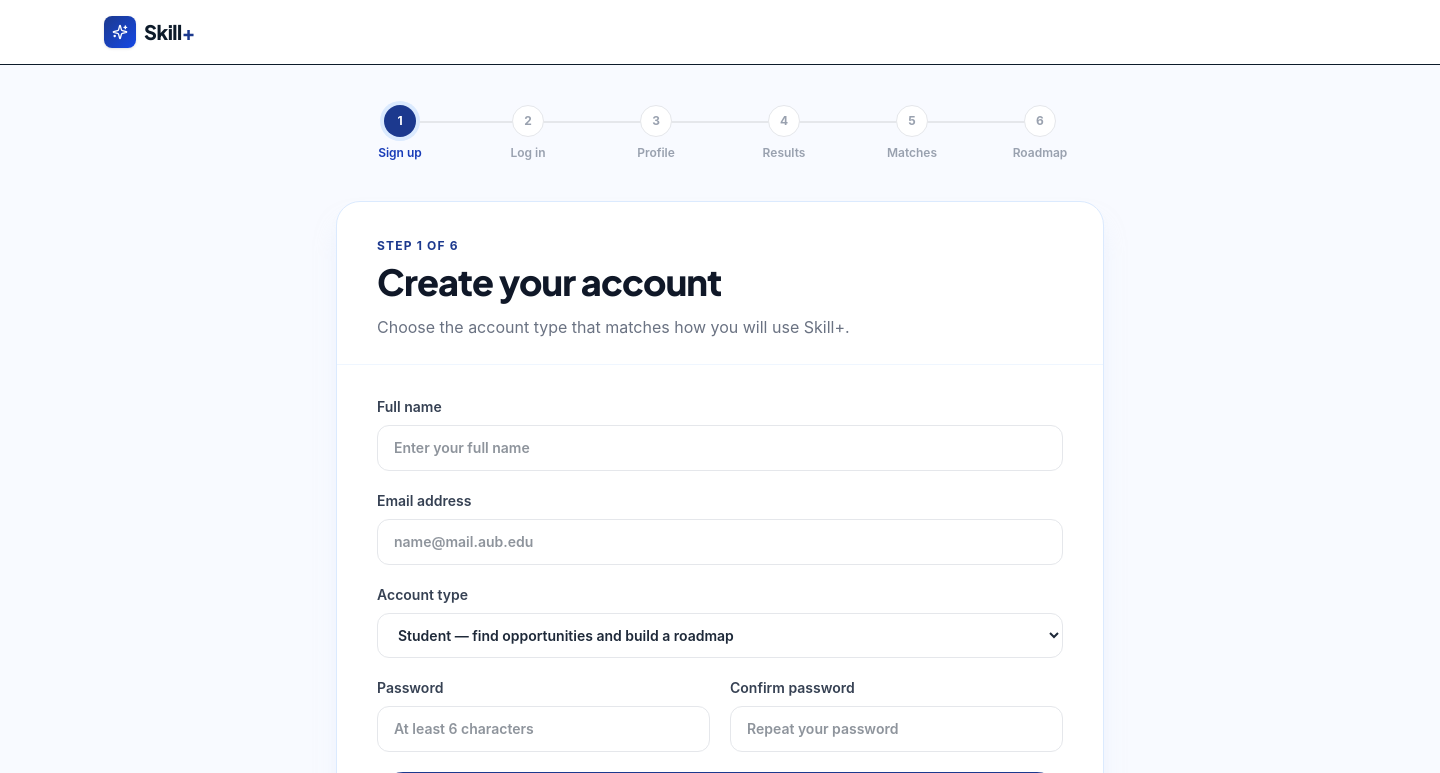
Test case: Member 5 complete student flow › shows a useful duplicate-email error and login path
Type "Alex Morgan" into the field labelled "Full name" at (720, 448), box [377,425,1063,471]
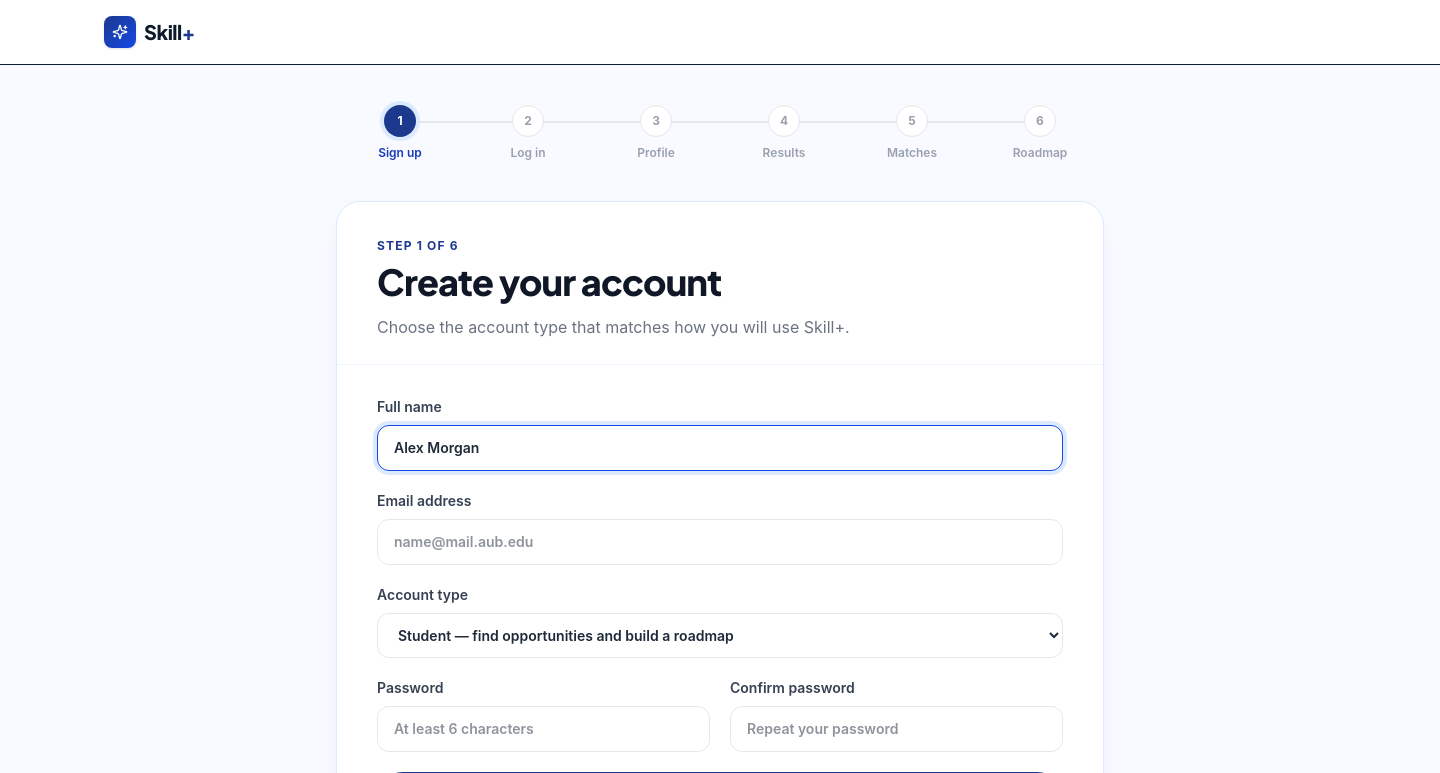
Type "alex.morgan@mail.aub.edu" into the field labelled "Email address" at (720, 542), box [377,519,1063,565]
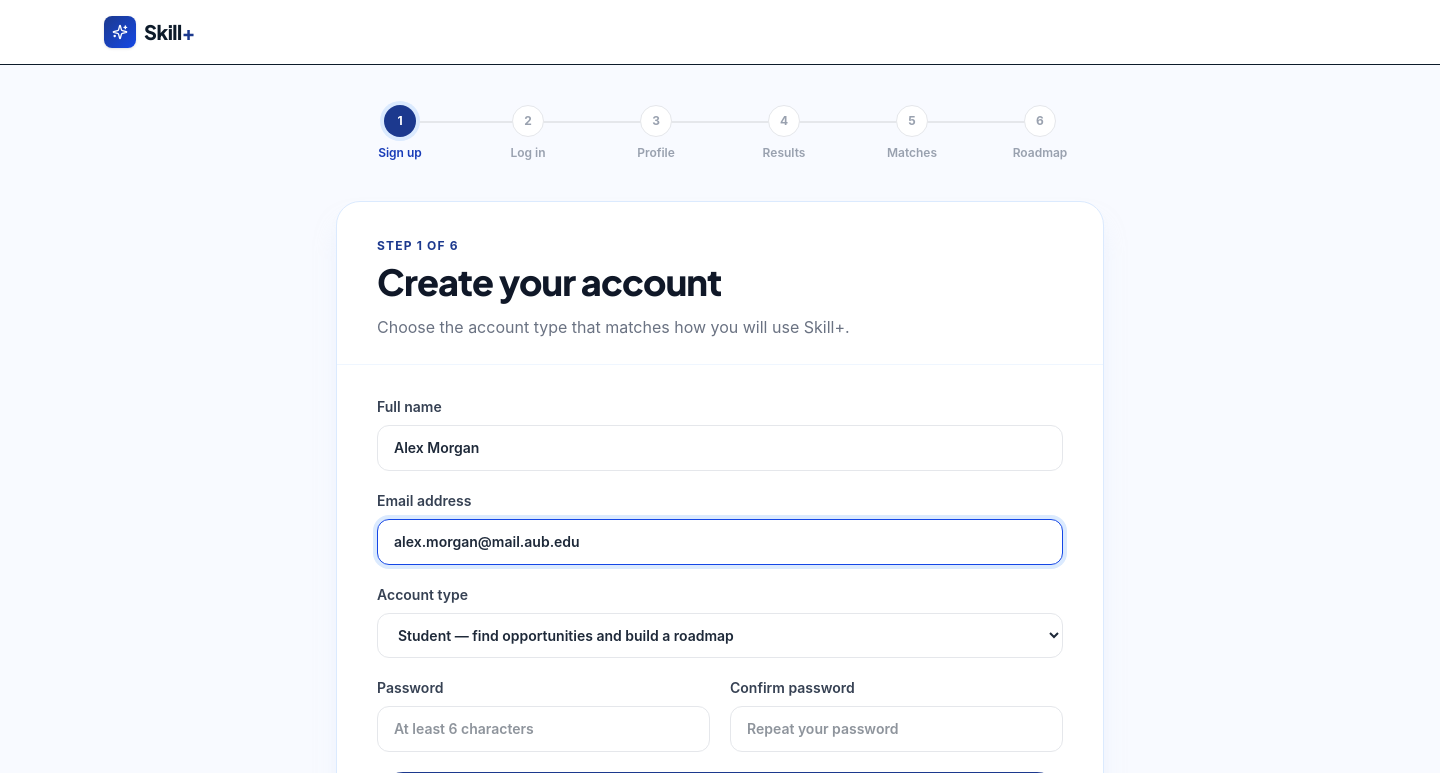
Type "password123" into the password field labelled "Password" at (544, 729), box [377,706,710,752]
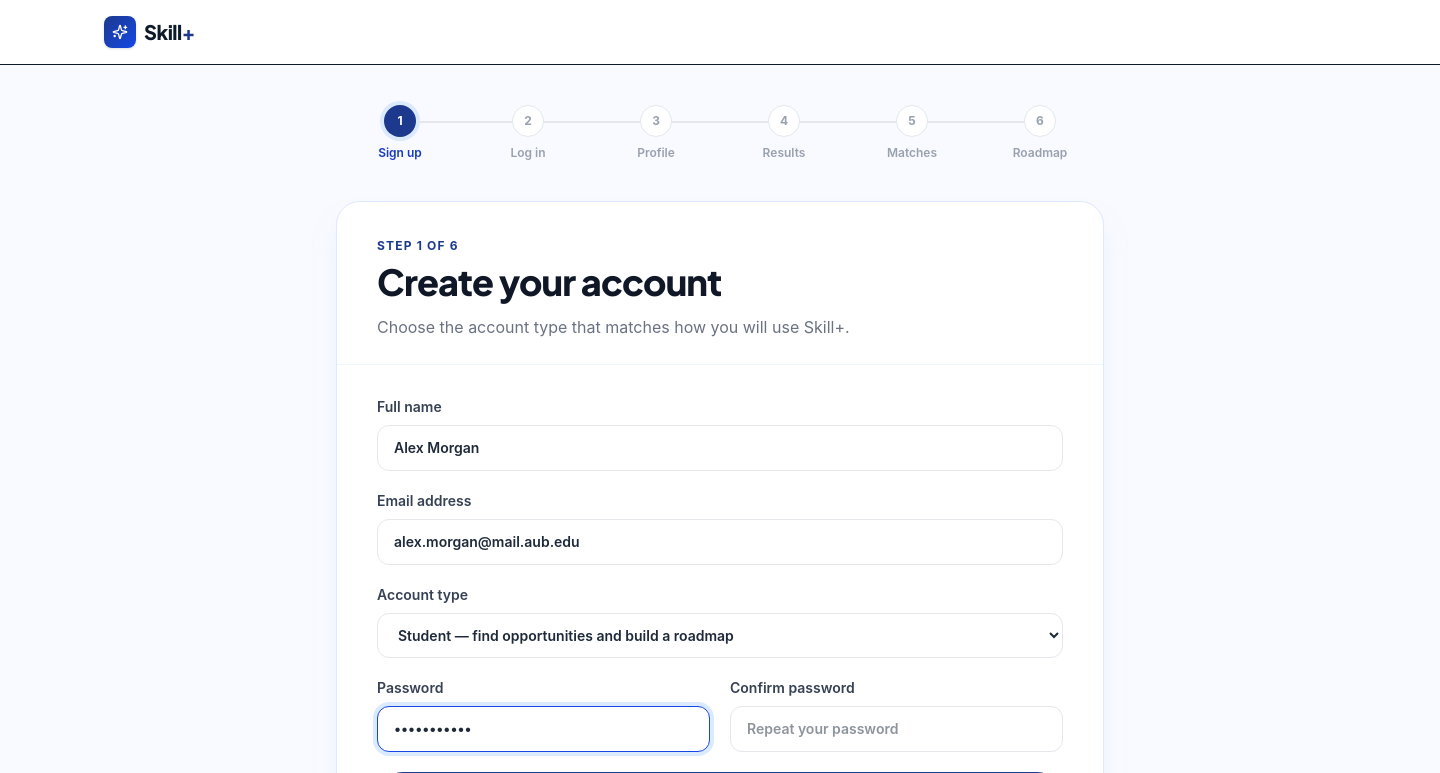
Type "password123" into the password field labelled "Confirm password" at (896, 729), box [730,706,1063,752]
(page scrolled)
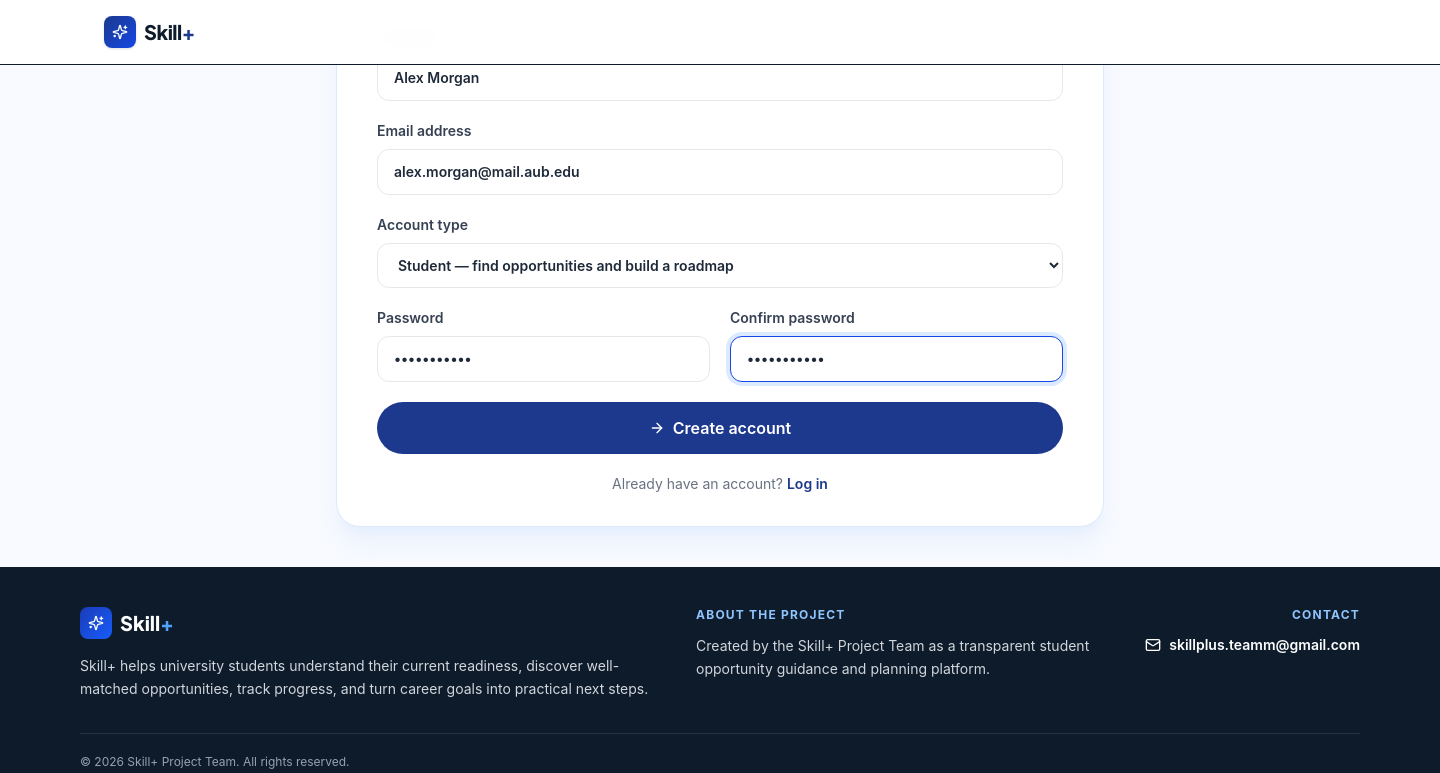
Click the button "Create account" at (720, 428), box [377,402,1063,454]
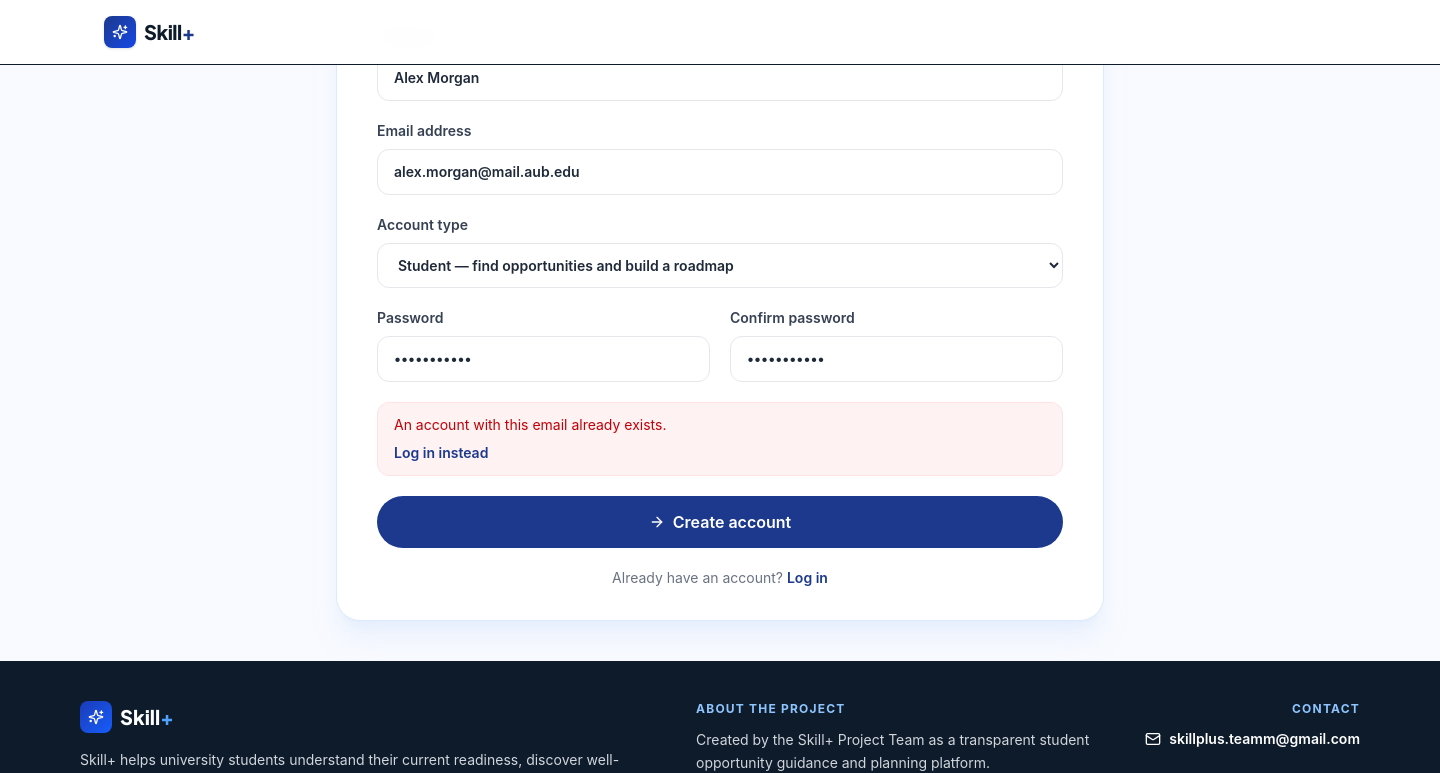
Now the message shows "An account with this email already exists.", box [394,416,666,433]
